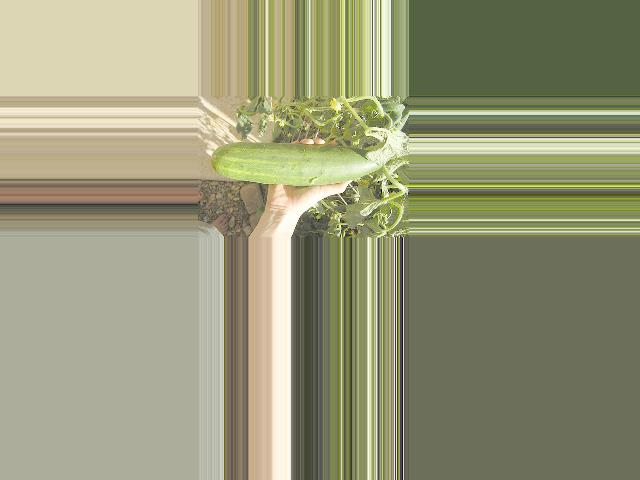cucumber: (210, 142, 384, 185)
